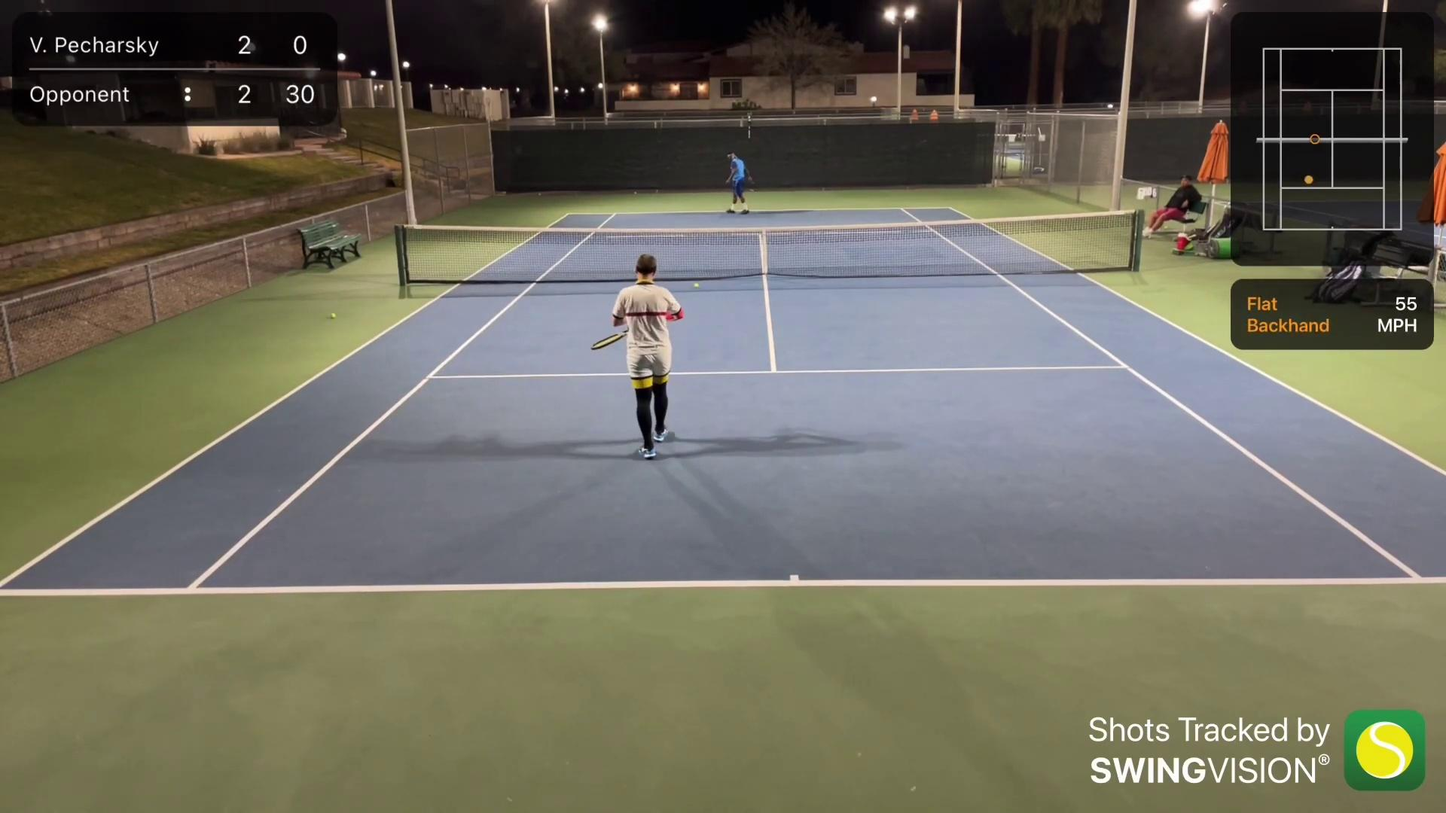ball: (690, 281, 707, 292), (326, 311, 339, 322)
